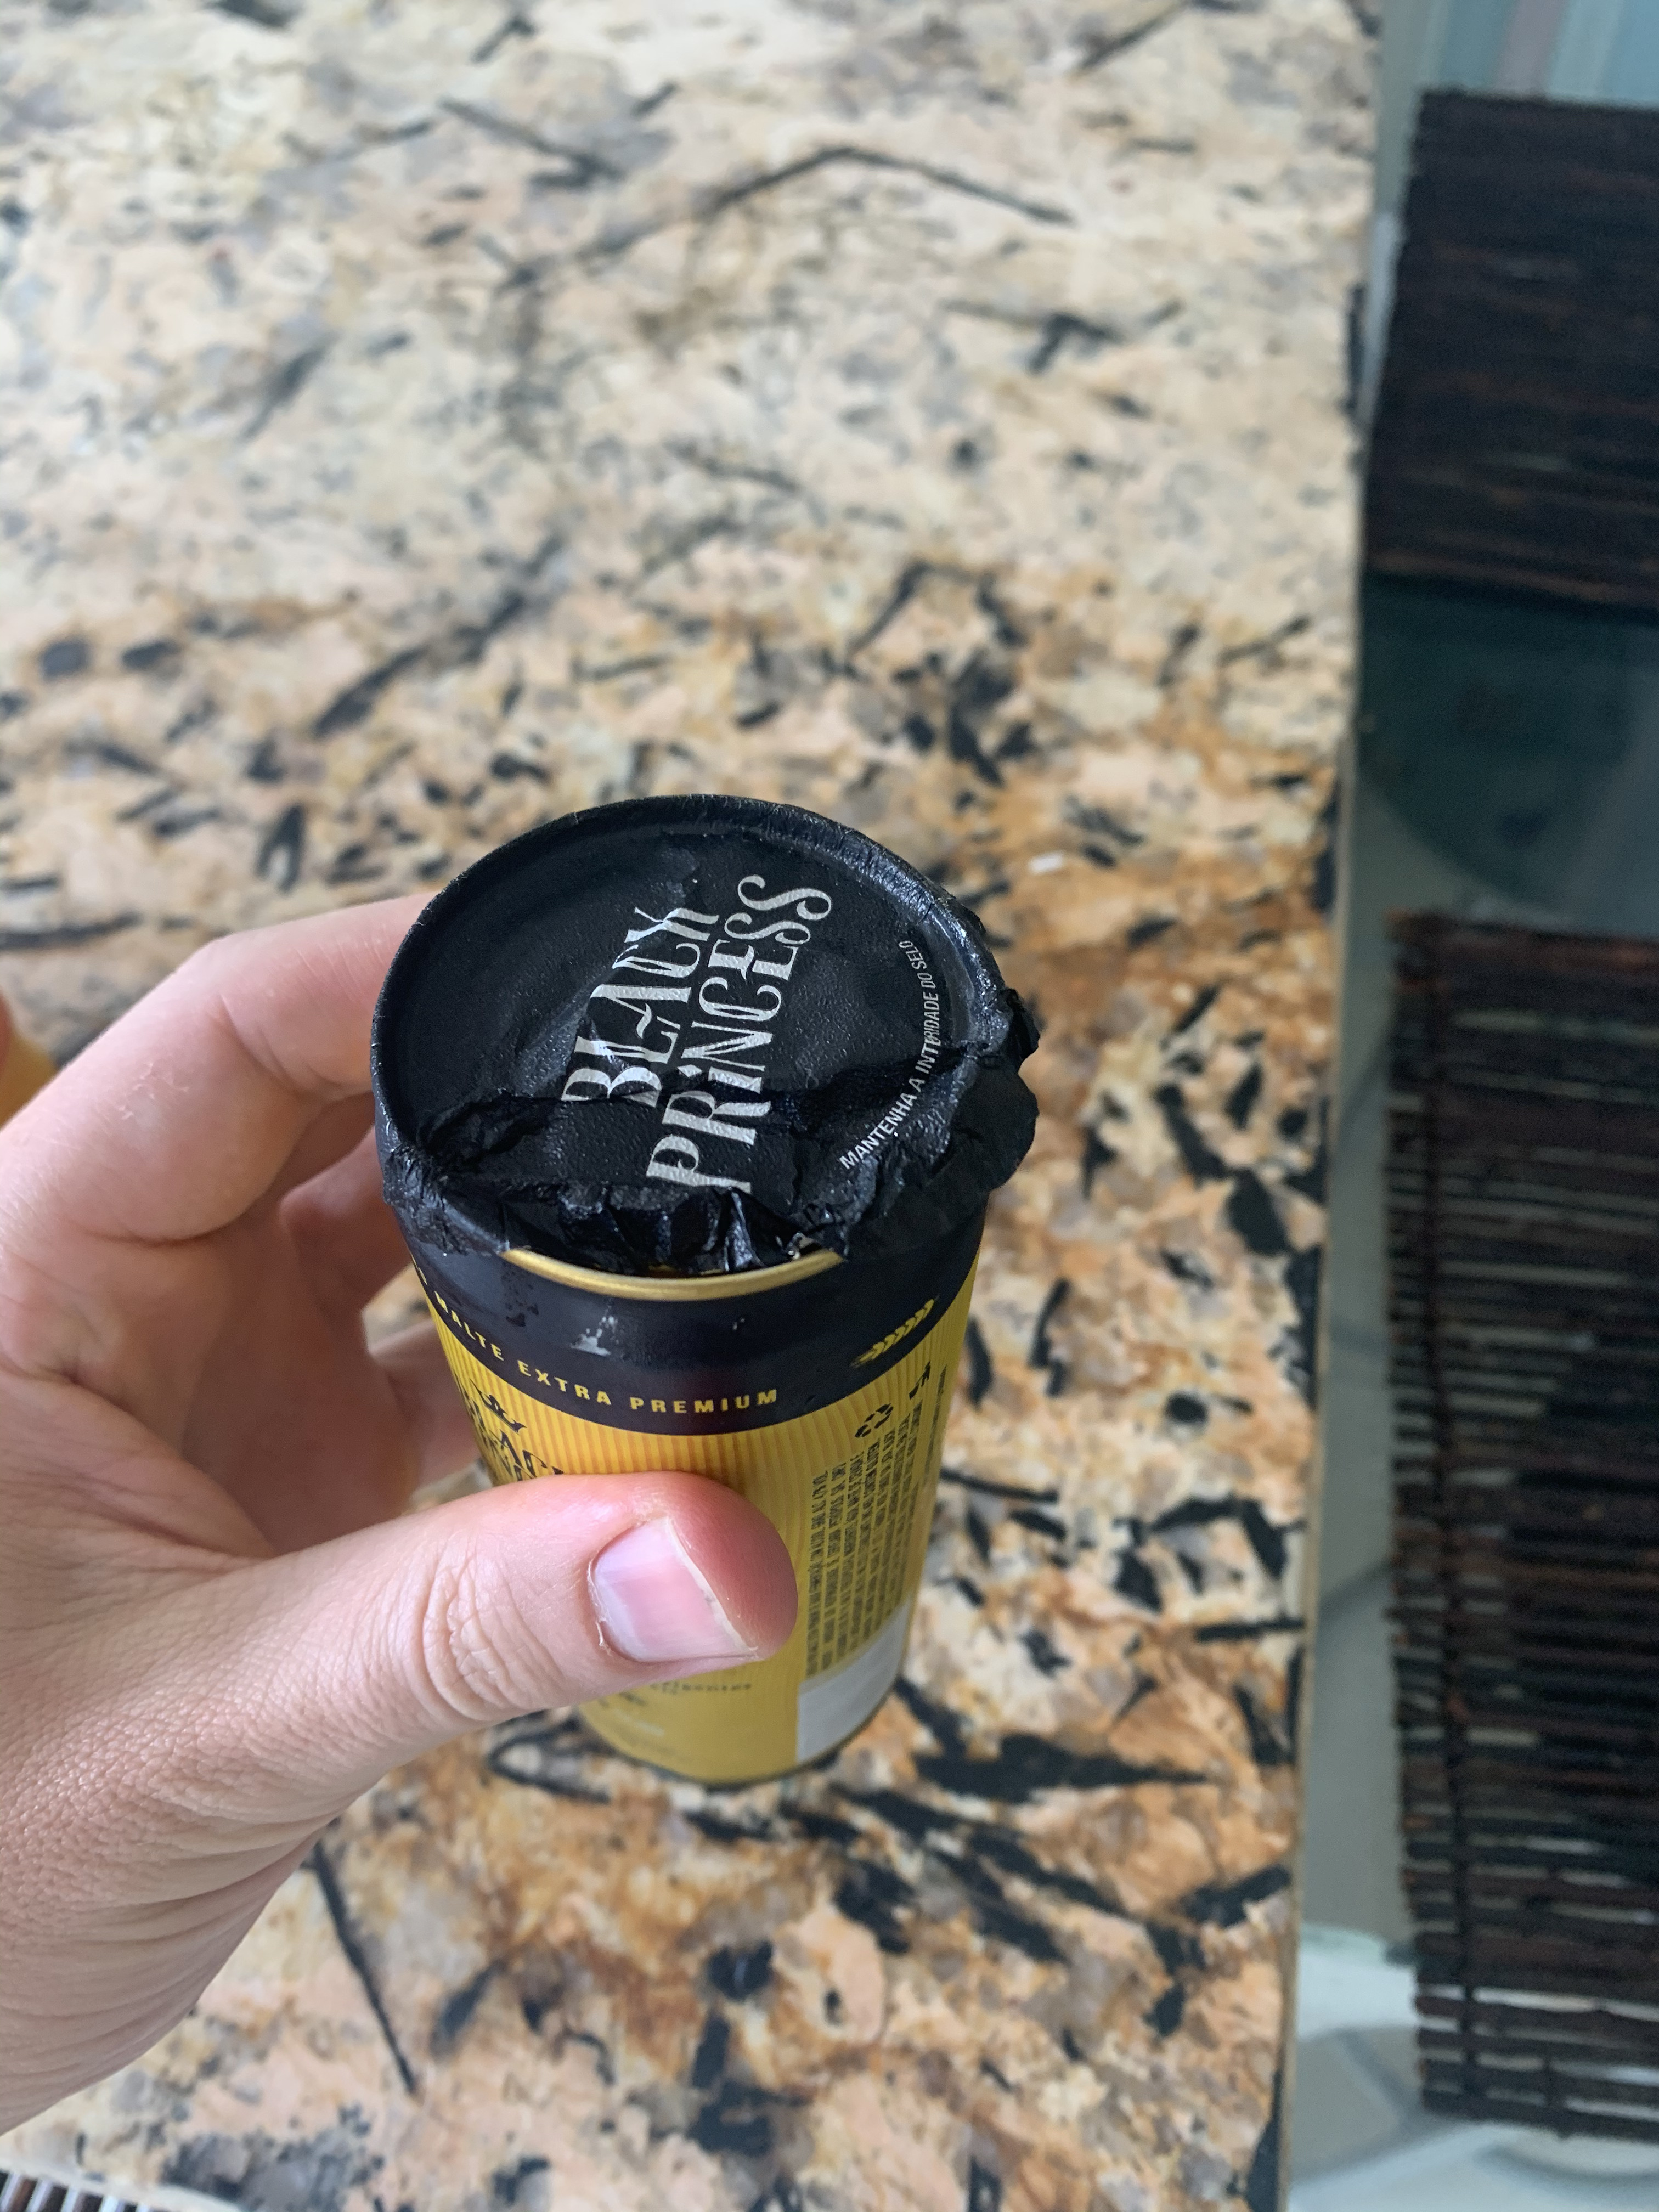blackprincess: (312, 777, 986, 1778)
